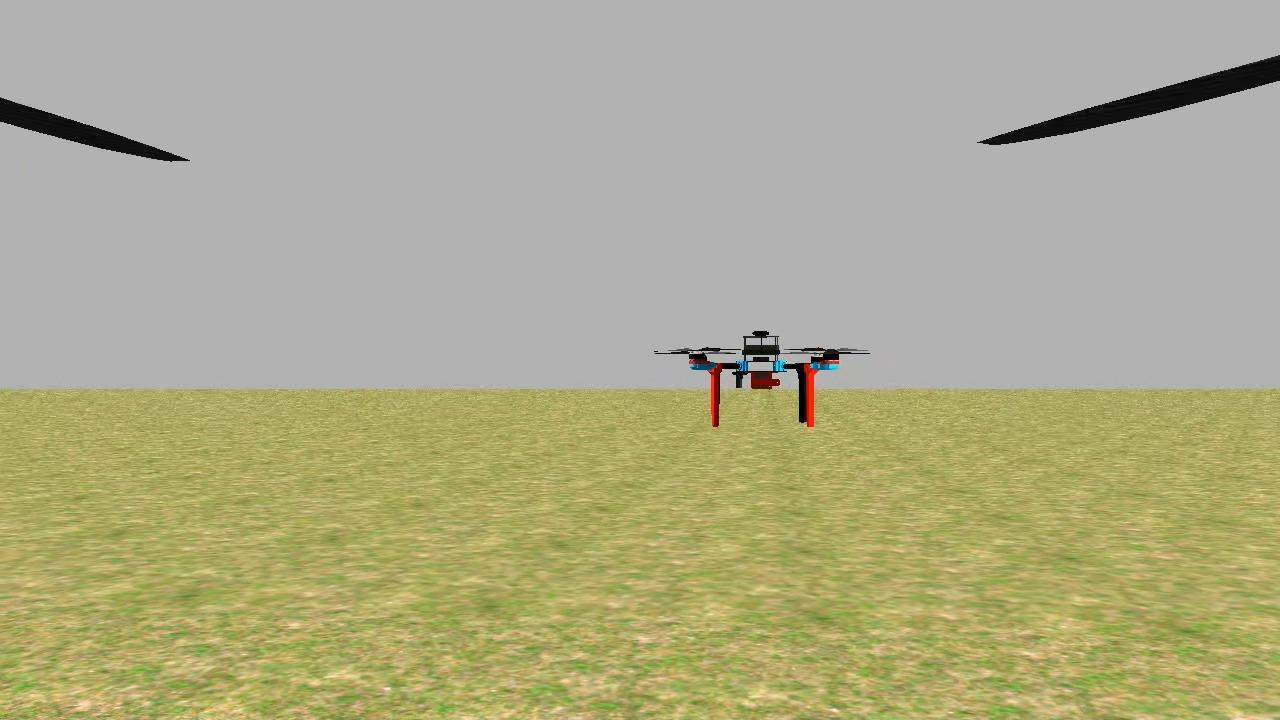UAV: (678, 314, 847, 443)
